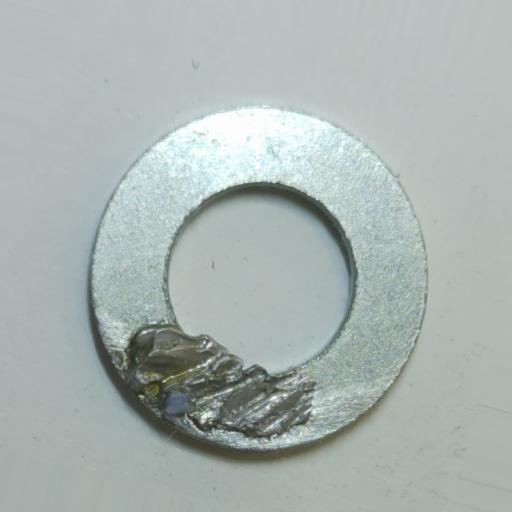excess_material: (118, 321, 320, 439)
